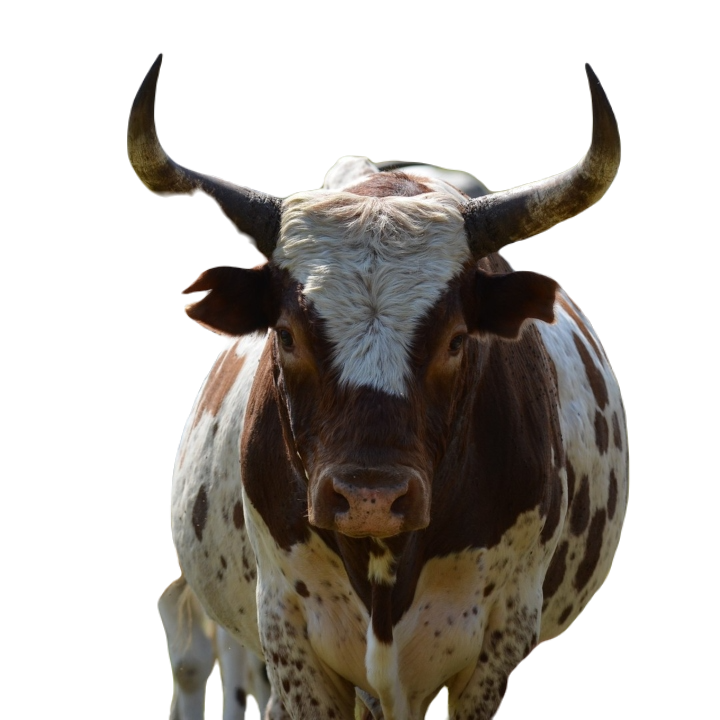Cow: (123, 49, 631, 719)
